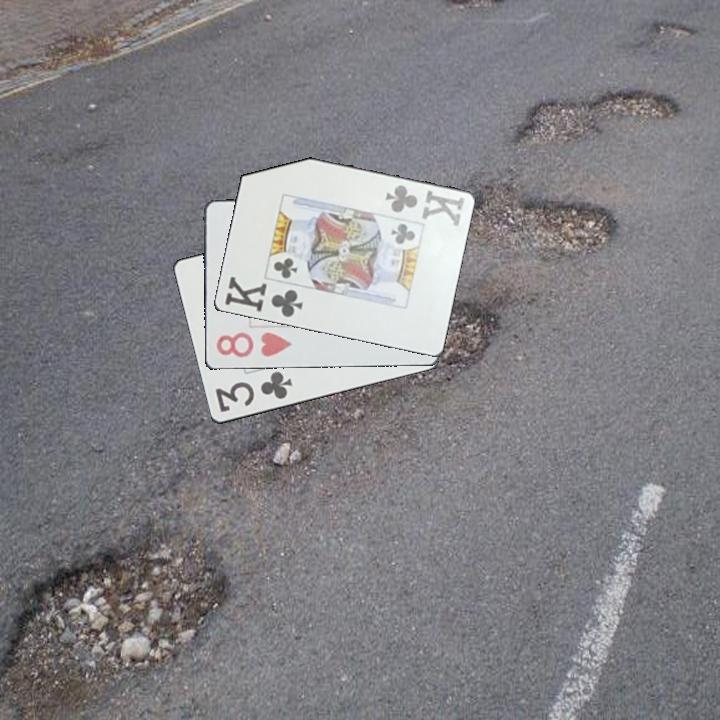3c: (211, 368, 295, 416)
8h: (212, 329, 294, 361)
Kc: (382, 181, 467, 229), (221, 273, 305, 321)
